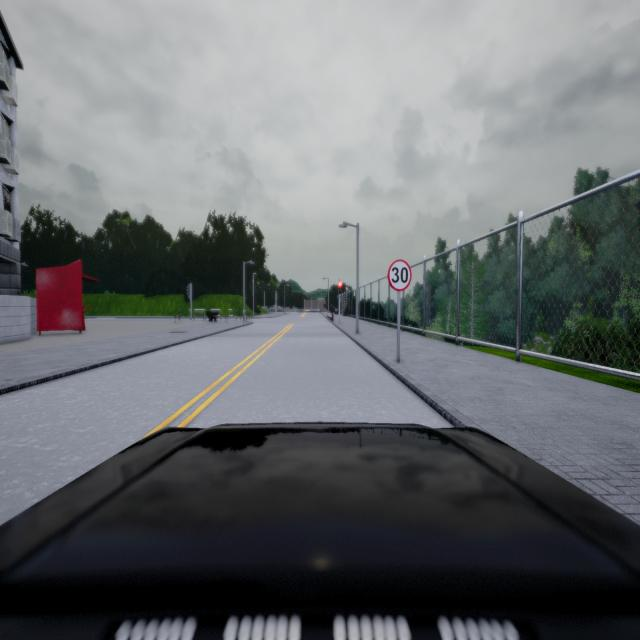Speed Limit -30-: (388, 260, 412, 292)
